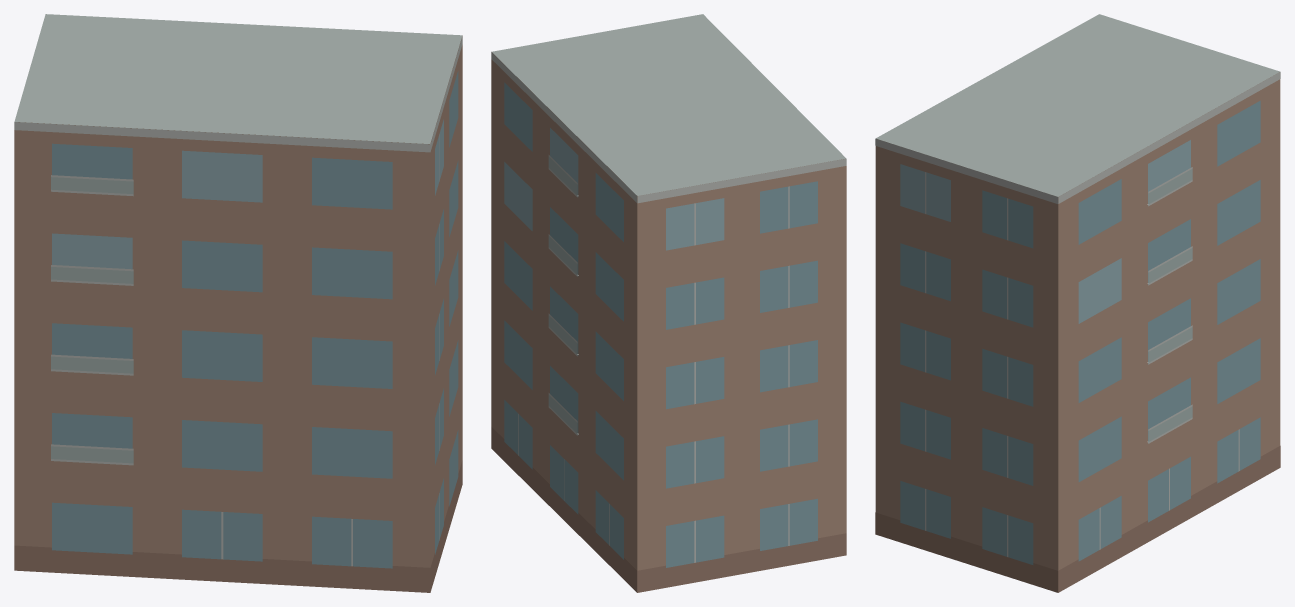
Rendered from survey-upis-32780095.glb.
3 renders of one model, left to right at view 1: azimuth 30°, elevation 25°; view 2: azimuth 150°, elevation 25°; view 3: azimuth 270°, elevation 25°, orthographic. The views are drawn at different scales.
Parts seen in each view (by area): view 1: survey-upis-32780095.tmp; view 2: survey-upis-32780095.tmp; view 3: survey-upis-32780095.tmp.
Part boxes in pixels (left/top/right/bottom): survey-upis-32780095.tmp: left=14, top=14, right=462, bottom=592; survey-upis-32780095.tmp: left=491, top=14, right=846, bottom=592; survey-upis-32780095.tmp: left=875, top=14, right=1280, bottom=592.
Bounding box in the file's own units: 13.09 × 13.2 × 12.24.
